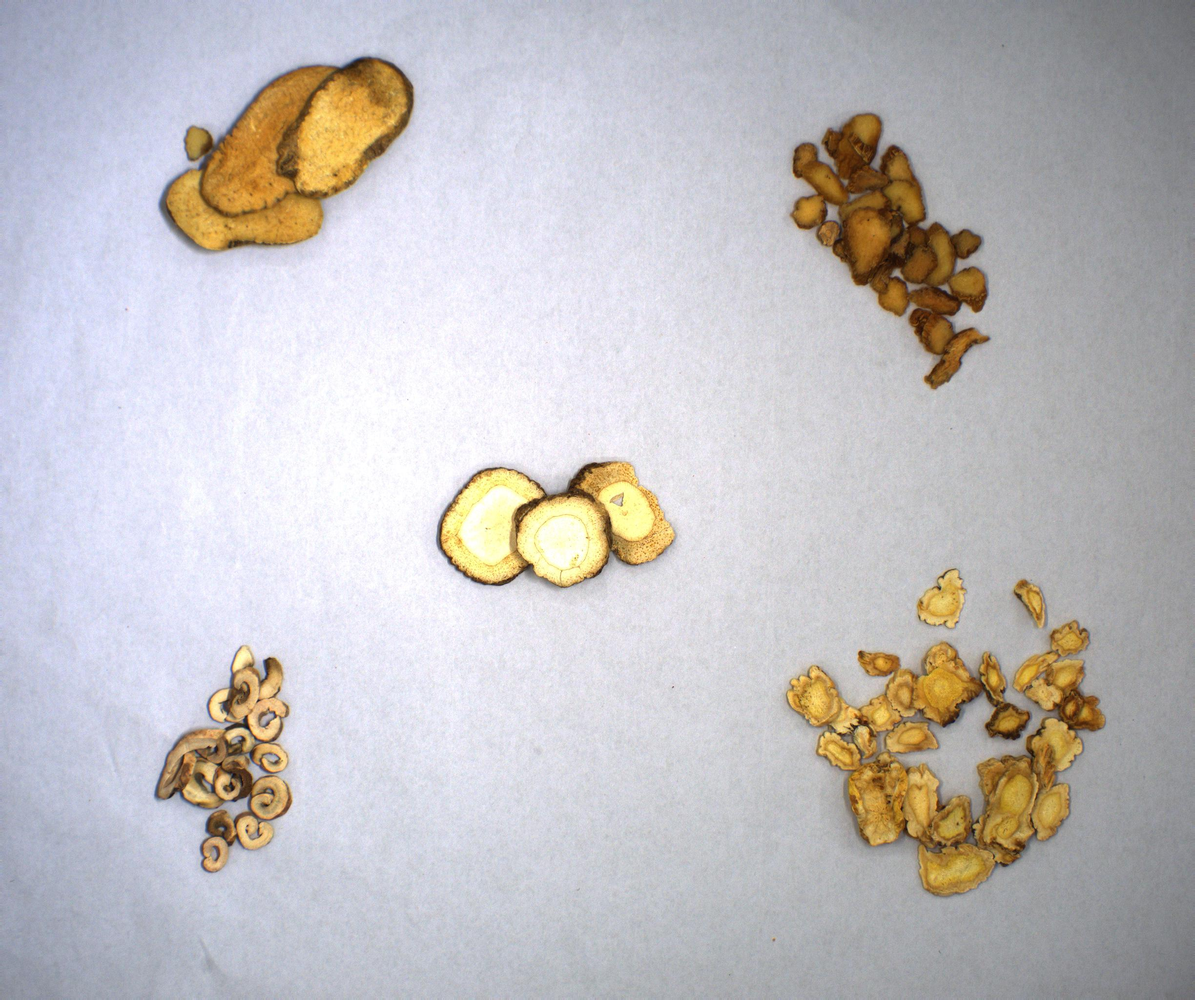baizhi: (427, 454, 684, 593)
jiegeng: (780, 564, 1110, 898)
mudanpi: (153, 636, 302, 880)
yuzhu: (776, 111, 1001, 399)
zexie: (157, 56, 424, 256)
